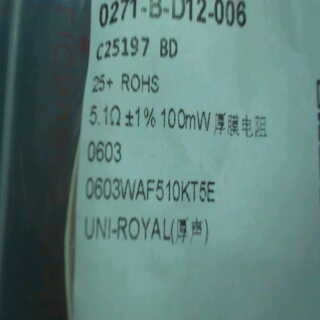5.1R: (88, 101, 122, 133)
